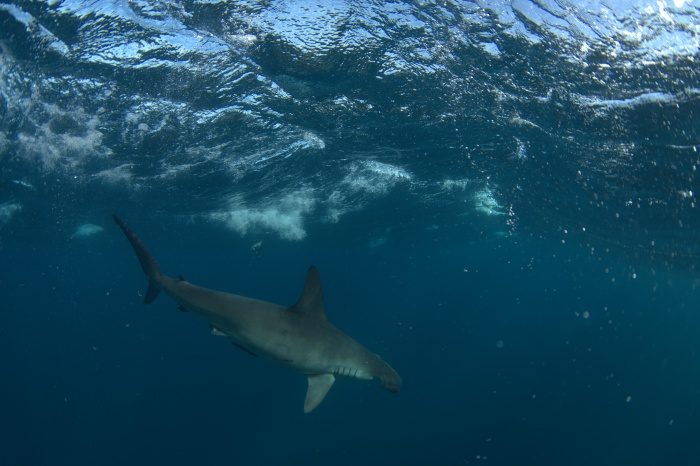Hammer: (84, 194, 435, 425)
